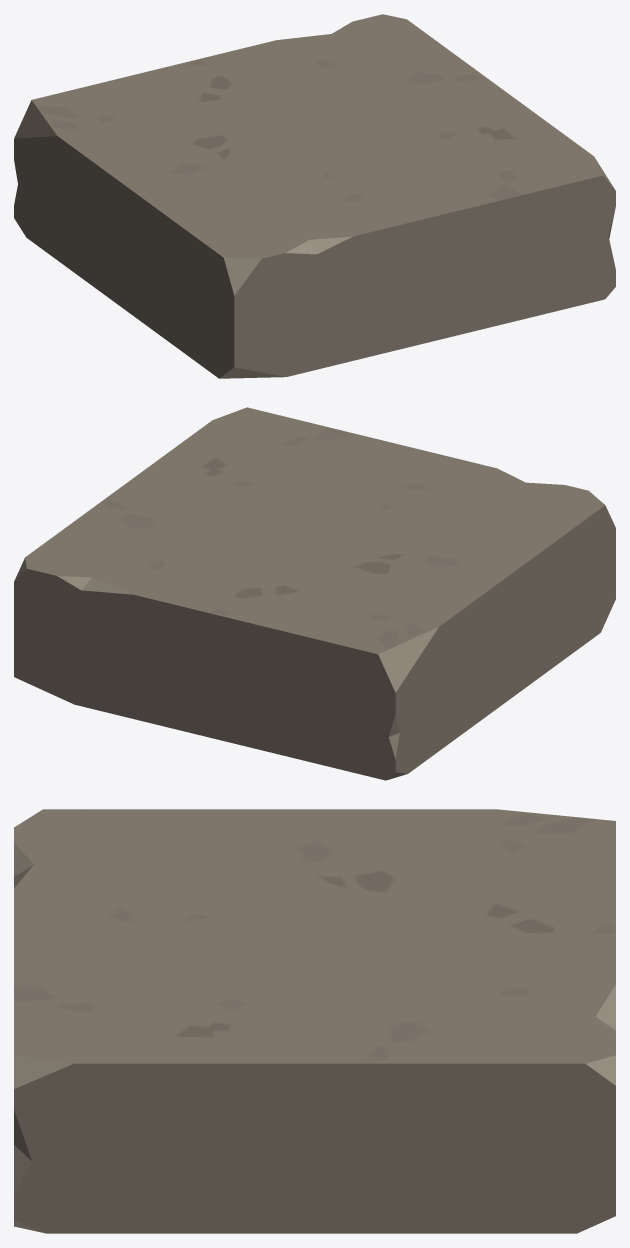
The model's file is SM_Bld_Concrete_Pillar_Short_01.fbx.
3 views of the same model, one above another, from view 1: azimuth 30°, elevation 25°; view 2: azimuth 150°, elevation 25°; view 3: azimuth 270°, elevation 25° (orthographic). The views are drawn at different scales.
Parts seen in each view (by area): view 1: SM_Bld_Concrete_Pillar_Short_01; view 2: SM_Bld_Concrete_Pillar_Short_01; view 3: SM_Bld_Concrete_Pillar_Short_01.
Boxes of the visible parts, <box> form: SM_Bld_Concrete_Pillar_Short_01: <box>14,14,615,378</box>; SM_Bld_Concrete_Pillar_Short_01: <box>14,407,615,780</box>; SM_Bld_Concrete_Pillar_Short_01: <box>14,809,615,1233</box>.
Bounding box in the file's own units: 200 × 62.28 × 200.
